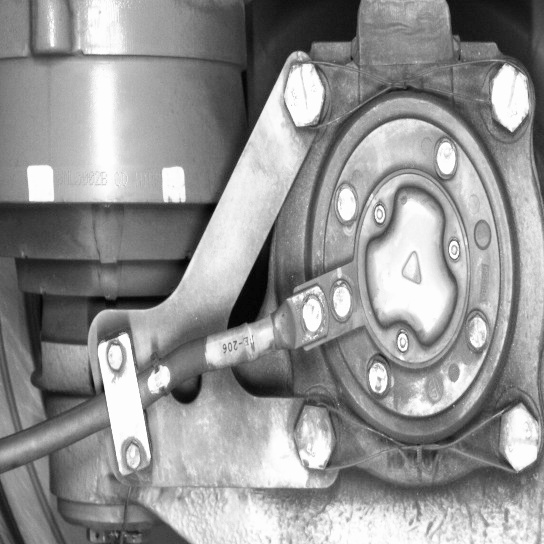IronWire: (277, 45, 534, 143), (289, 394, 541, 479)
Screw: (277, 48, 335, 135), (476, 54, 534, 141), (287, 393, 343, 482), (492, 394, 541, 479)
